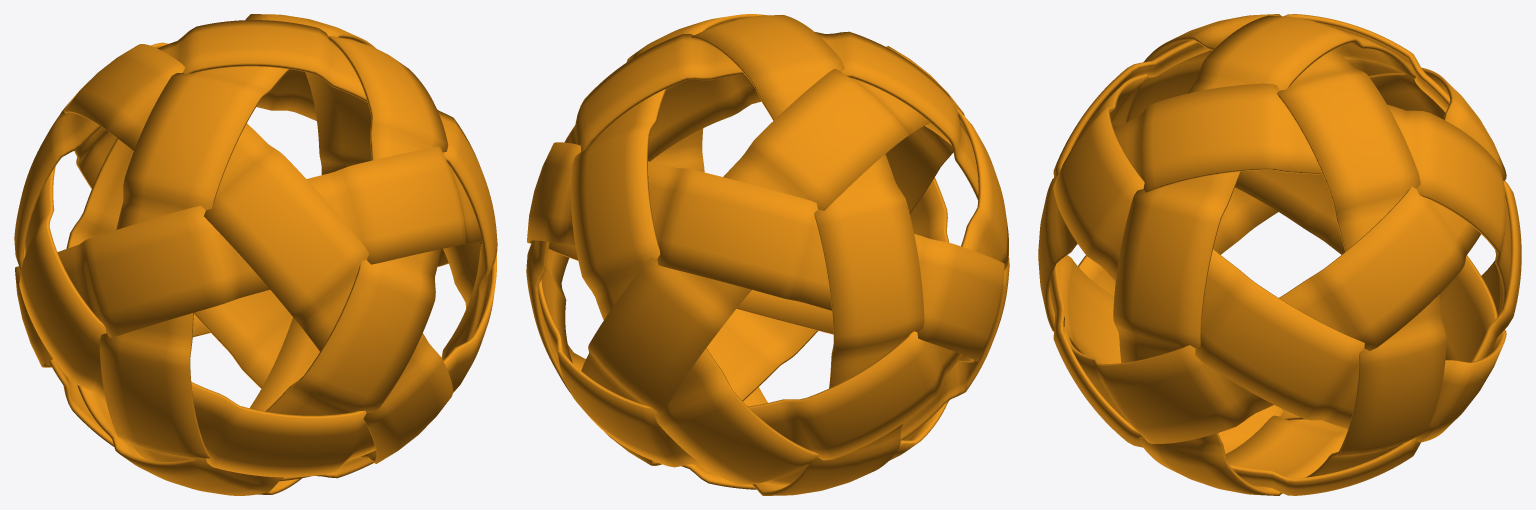
3 renders of one model, left to right at view 1: azimuth 30°, elevation 25°; view 2: azimuth 150°, elevation 25°; view 3: azimuth 270°, elevation 25°, orthographic.
Visible parts, largest first — view 1: MESH_SepakTakrawBall; view 2: MESH_SepakTakrawBall; view 3: MESH_SepakTakrawBall.
Boxes of the visible parts, x1,y1,x2,y2 form: MESH_SepakTakrawBall: (14,14,497,495); MESH_SepakTakrawBall: (526,14,1009,495); MESH_SepakTakrawBall: (1038,14,1521,495).
Size of the model in its own units: 0.1369 by 0.1369 by 0.1369.
